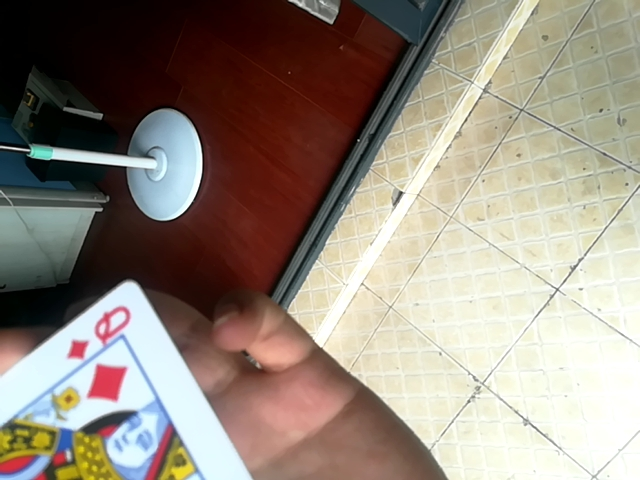fk q: (0, 278, 275, 480)
